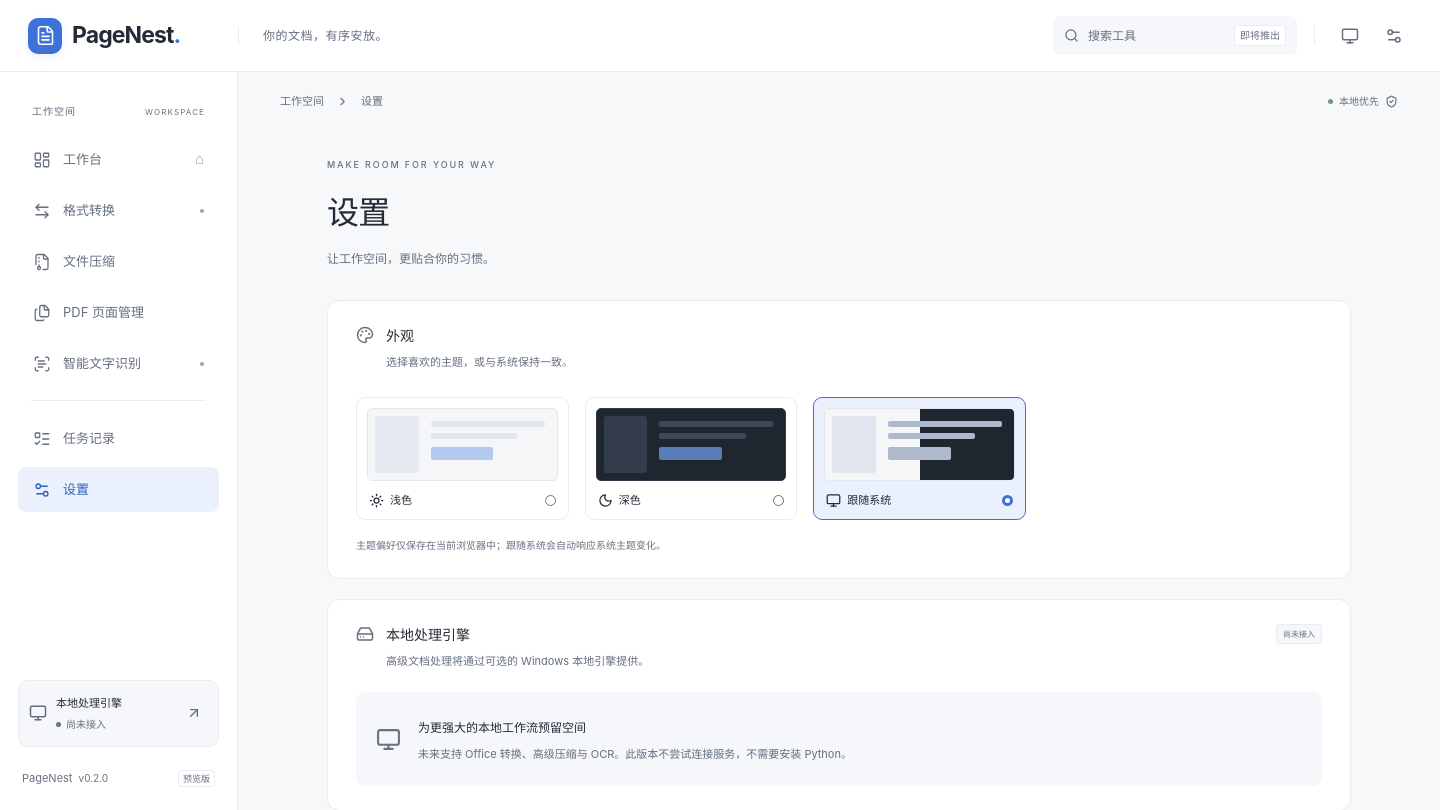
Test: PageNest workstation › changes theme from settings and saves preference
Later steps or results of the test are not shown.
Click the radio button labelled "深色". click: [691, 459]
box: left=585, top=397, right=797, bottom=520
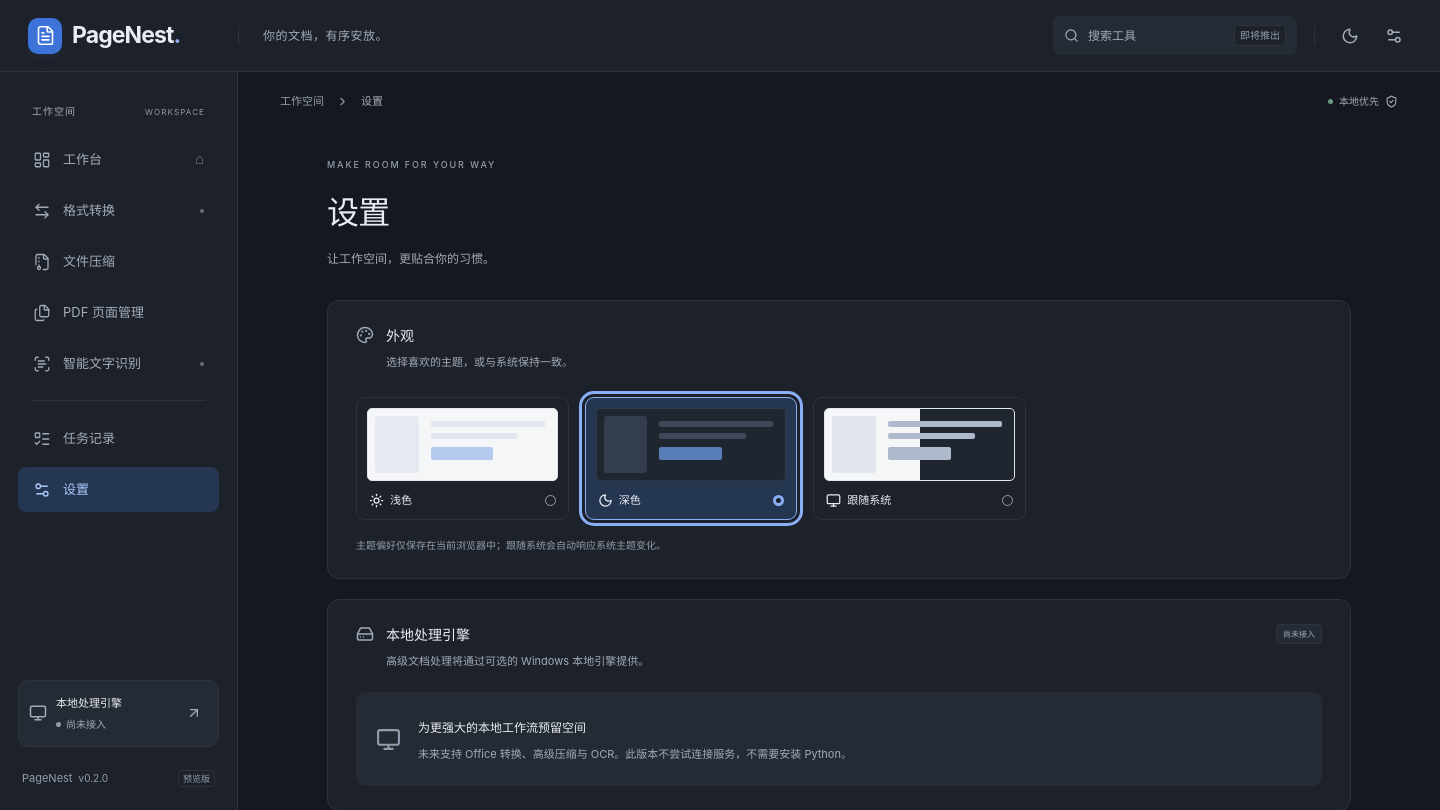
Now the radio button labelled "深色" is checked, box left=585, top=397, right=797, bottom=520
